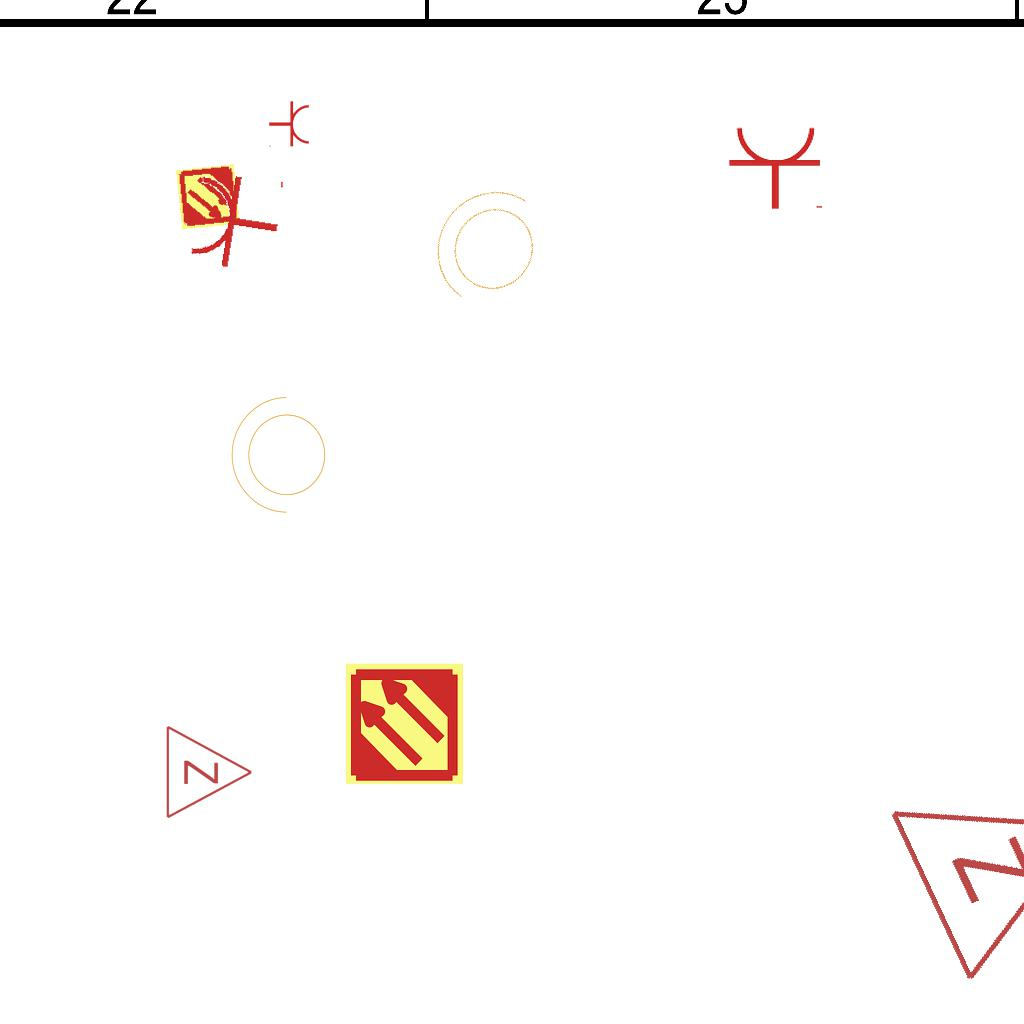ASR_Ansaugrauchmelder: (342, 661, 467, 786), (173, 162, 243, 232)
Scheinwerfer_fuer_Alarmbeleuchtung: (404, 162, 572, 336), (226, 392, 338, 524)
Schukosteckdose_einfach: (185, 163, 288, 277), (727, 124, 827, 211), (268, 100, 311, 150)
Zimmersignalleuchte: (873, 727, 1024, 991), (159, 722, 259, 820)
